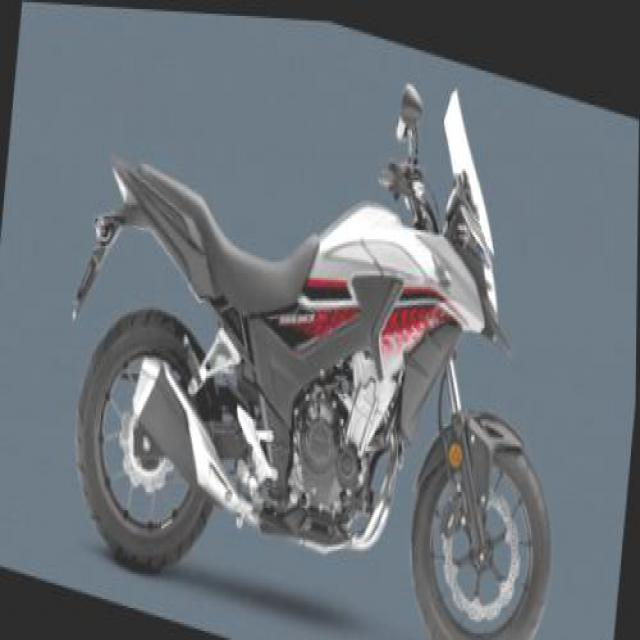CB500X: (50, 2, 596, 638)
